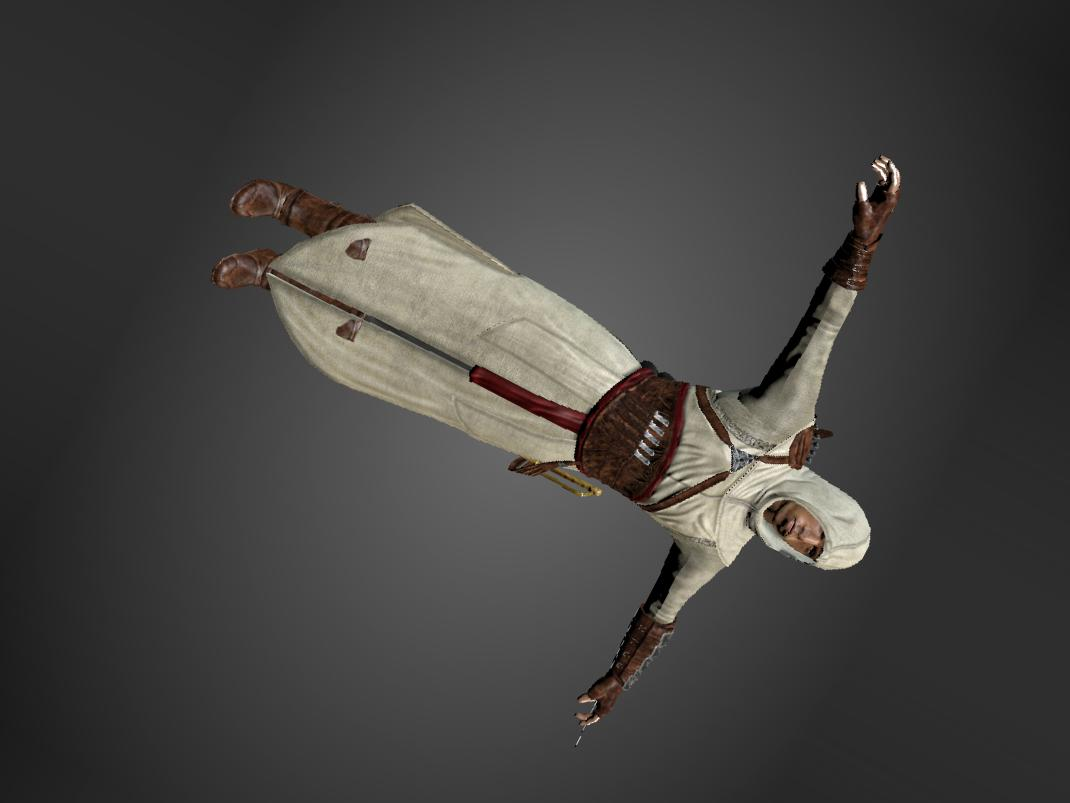clip: (329, 308, 371, 349), (343, 235, 380, 265)
